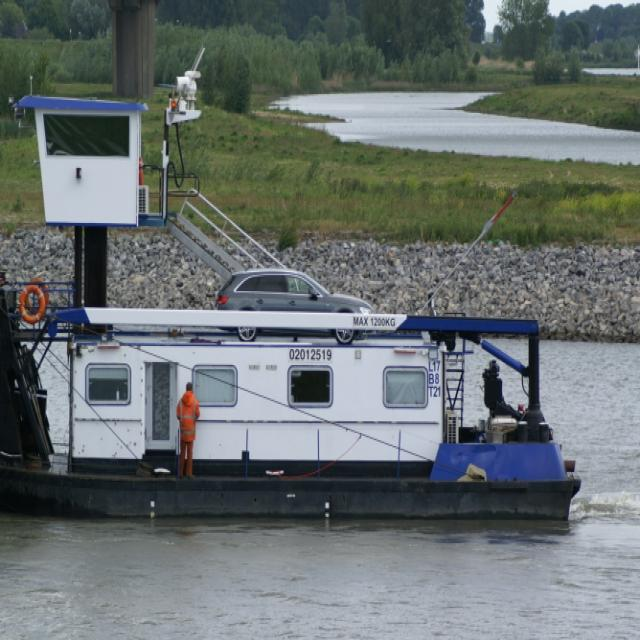tugboat: (1, 45, 591, 549)
